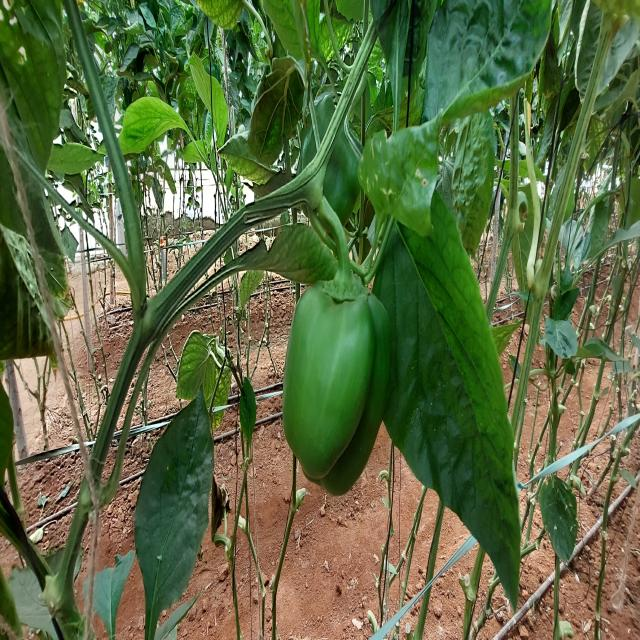Green--Not-ready-to-harvest: (286, 285, 386, 502)
